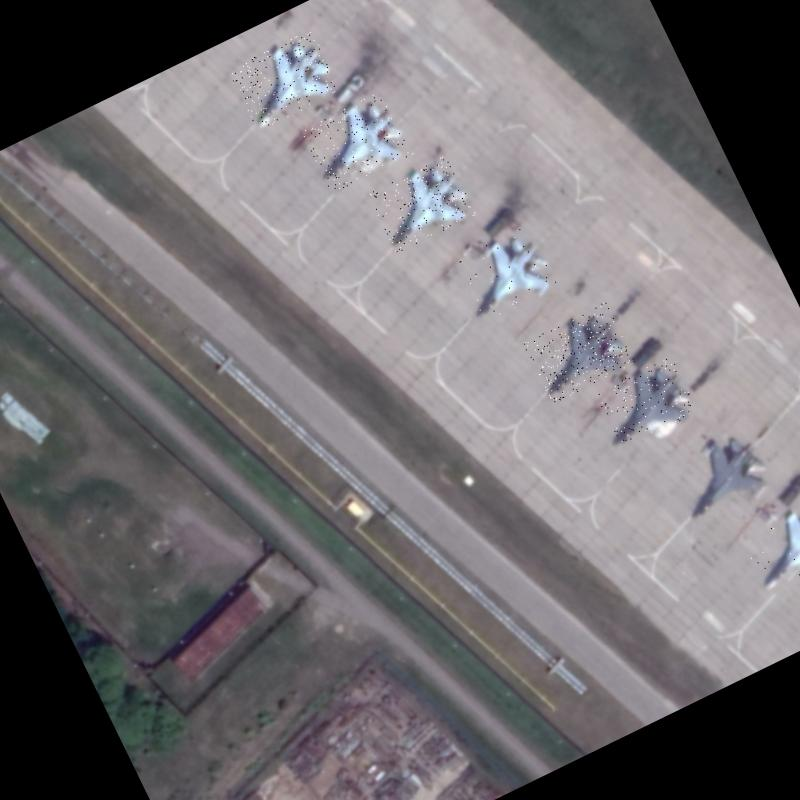A1: (300, 90, 413, 194), (228, 29, 342, 132), (522, 301, 636, 404), (666, 426, 776, 526), (454, 222, 560, 324), (367, 153, 476, 252), (594, 355, 699, 451), (738, 495, 800, 597)
